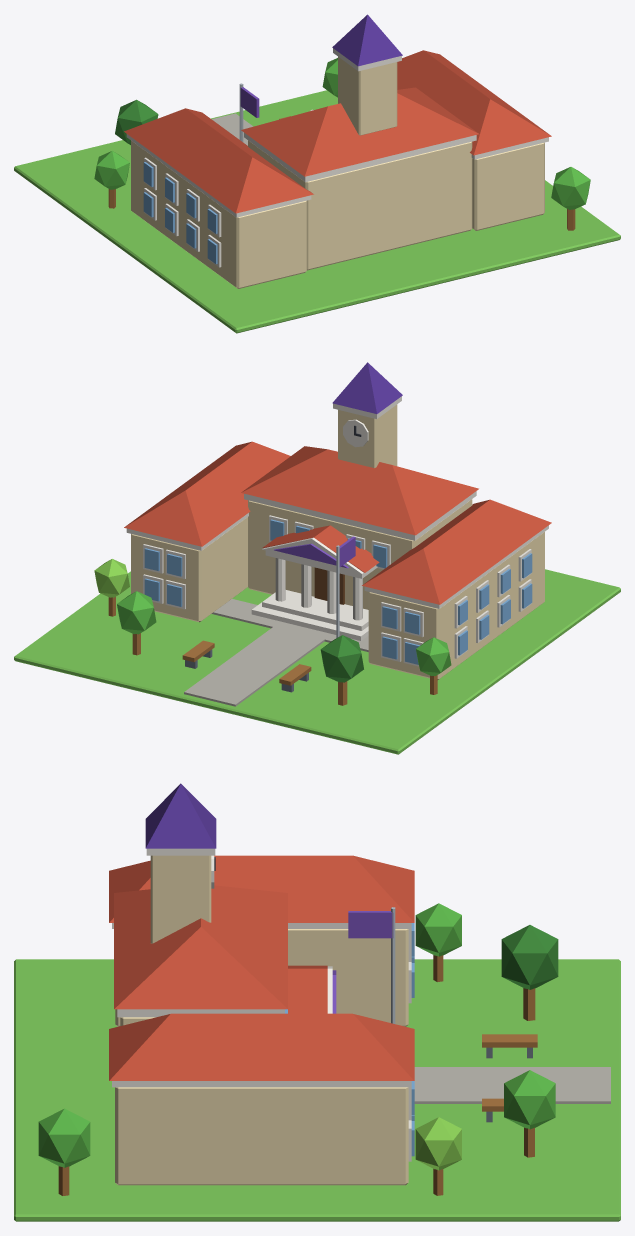
Rendered from university.glb.
3 renders of one model, top to bottom at view 1: azimuth 30°, elevation 25°; view 2: azimuth 150°, elevation 25°; view 3: azimuth 270°, elevation 25°, orthographic. The views are drawn at different scales.
Visible parts, largest first — view 1: corpo; view 2: corpo; view 3: corpo.
Boxes of the visible parts, x1=… form: corpo: x1=14, y1=14, x2=620, y2=333; corpo: x1=14, y1=362, x2=620, y2=754; corpo: x1=14, y1=783, x2=620, y2=1221.
Size of the model in its own units: 6 by 3.39 by 6.
